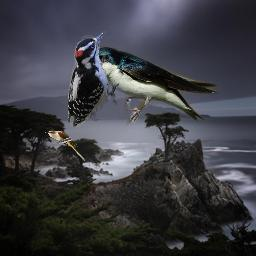Cuckoo: (45, 130, 86, 161)
Swallow: (87, 46, 222, 126)
Woodpecker: (68, 31, 119, 127)
